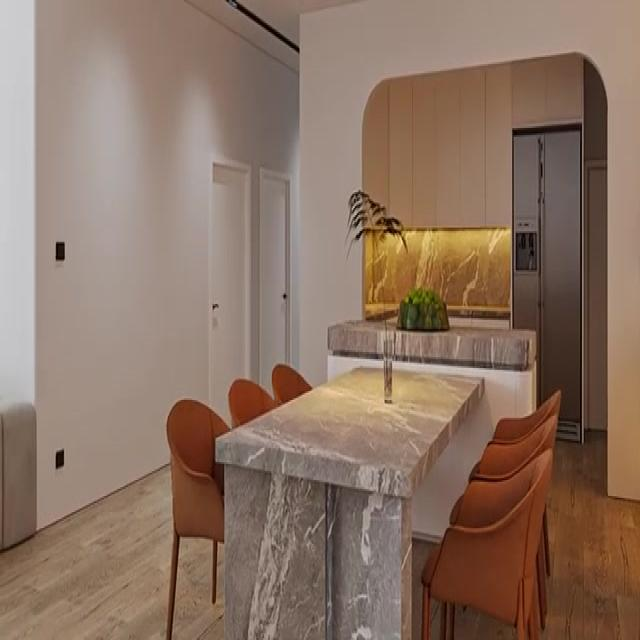door: (212, 164, 248, 439), (261, 174, 290, 408)
obstacle: (214, 363, 484, 638), (511, 125, 583, 442), (164, 396, 230, 638)
